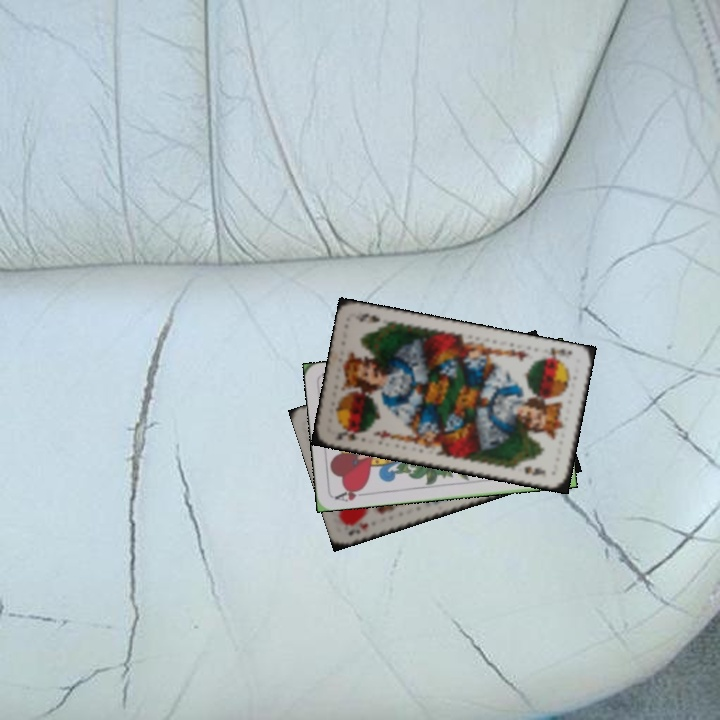HA: (331, 483, 371, 504)
HK: (344, 518, 370, 538)
SK: (333, 425, 367, 444), (546, 343, 575, 365)
